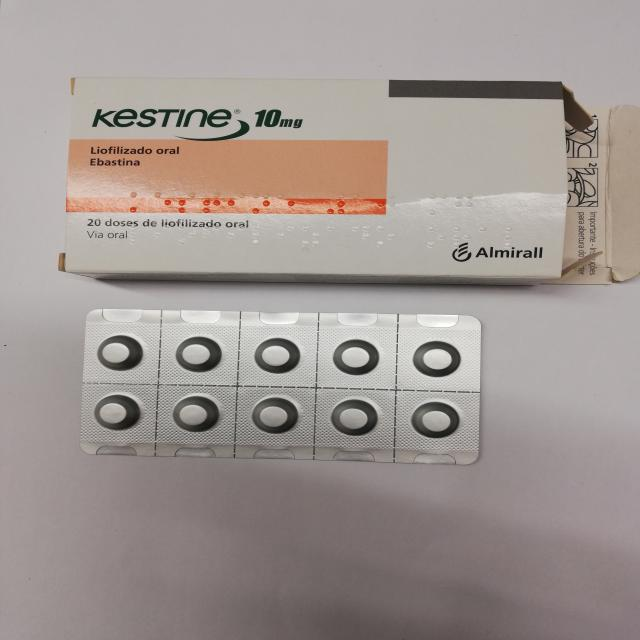Pill: (85, 386, 148, 442), (318, 393, 384, 445), (233, 395, 302, 443), (317, 336, 385, 381), (168, 392, 230, 440), (404, 336, 463, 385), (407, 398, 463, 446), (89, 331, 150, 374), (248, 336, 304, 378), (167, 335, 224, 376)
